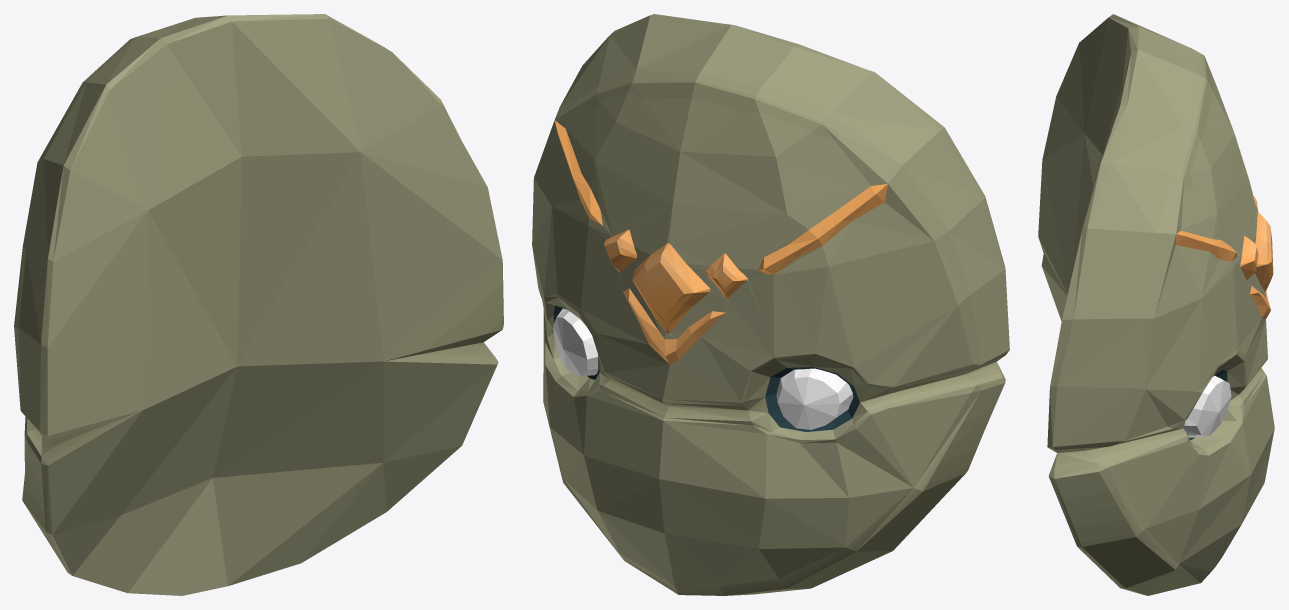
Rendered from CharSkyKid_Mask_AP04Adult.glb.
The picture shows the model from 3 angles, left to right: view 1: azimuth 30°, elevation 25°; view 2: azimuth 150°, elevation 25°; view 3: azimuth 270°, elevation 25°; orthographic projection. The views are drawn at different scales.
Visible parts, largest first — view 1: CharSkyKid_Mask_AP04Adult; view 2: CharSkyKid_Mask_AP04Adult; view 3: CharSkyKid_Mask_AP04Adult.
Part boxes in pixels (x1,y1,x2,y2): CharSkyKid_Mask_AP04Adult: (14,14,503,595); CharSkyKid_Mask_AP04Adult: (532,14,1009,595); CharSkyKid_Mask_AP04Adult: (1038,14,1274,595).
Bounding box in the file's own units: 2.13 × 2.53 × 1.03.
Materials: 1 (1 with a texture image).
